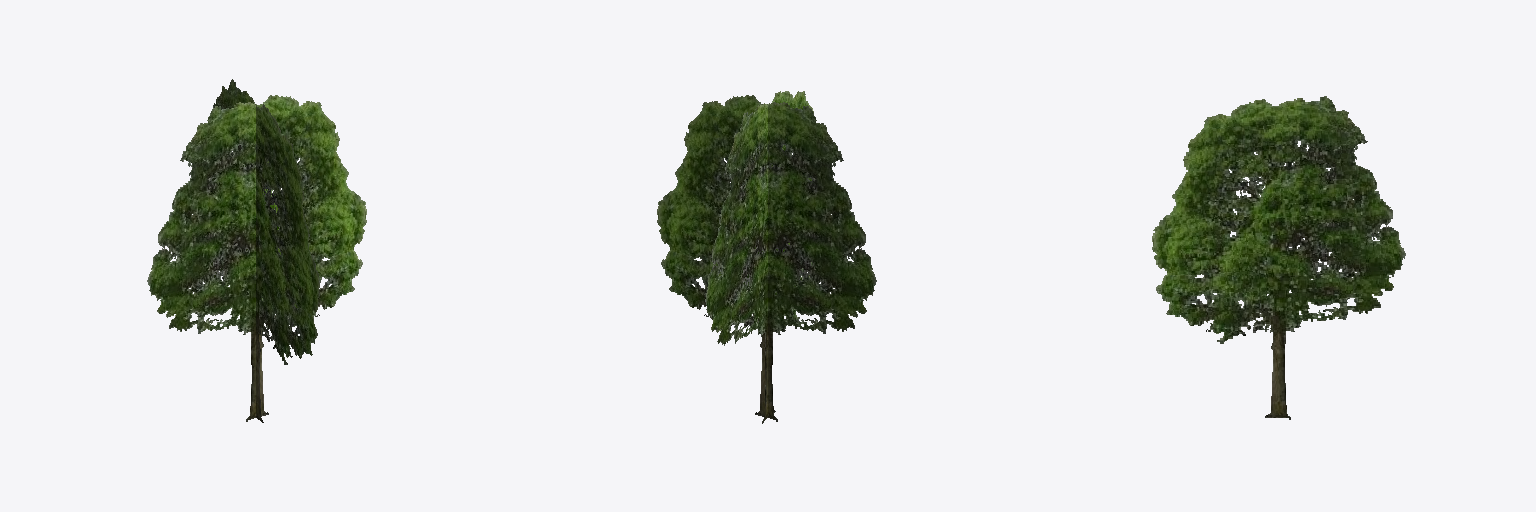
3 renders of one model, left to right at view 1: azimuth 30°, elevation 25°; view 2: azimuth 150°, elevation 25°; view 3: azimuth 270°, elevation 25°, orthographic.
Visible parts, largest first — view 1: Plane.001; view 2: Plane.001; view 3: Plane.001.
Boxes of the visible parts, x1=… form: Plane.001: x1=147, y1=79, x2=366, y2=422; Plane.001: x1=657, y1=91, x2=876, y2=423; Plane.001: x1=1152, y1=96, x2=1405, y2=419.
Bounding box in the file's own units: 2.5 × 3.15 × 2.5.
Materials: 1 (1 with a texture image).